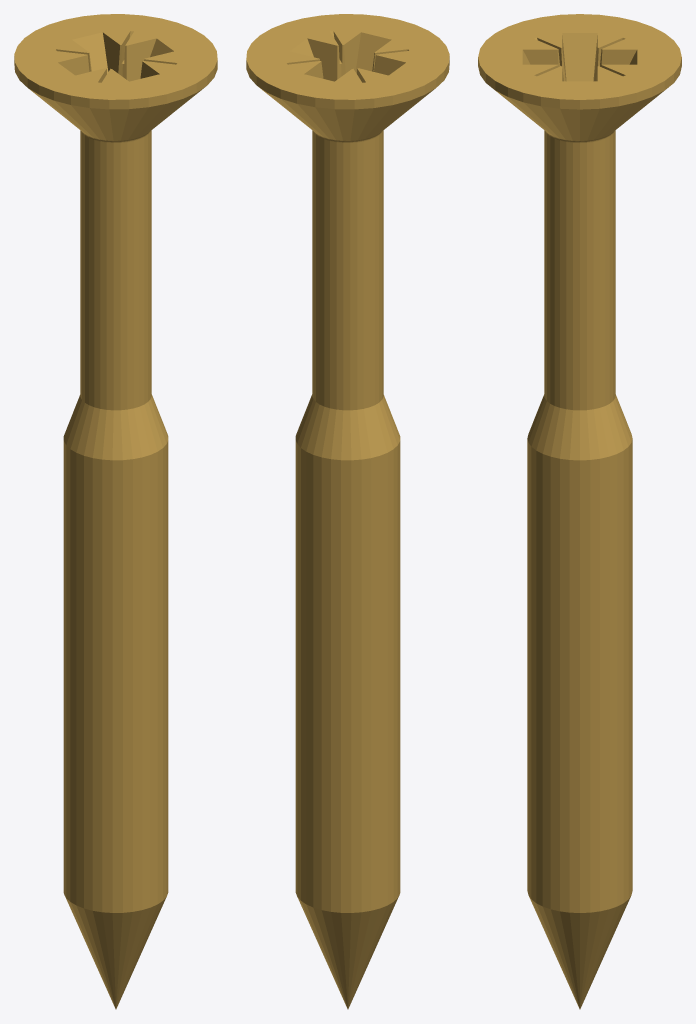
File: model_display.glb
3 renders of one model, left to right at view 1: azimuth 30°, elevation 25°; view 2: azimuth 150°, elevation 25°; view 3: azimuth 270°, elevation 25°, orthographic.
Visible parts, largest first — view 1: geometry_0; view 2: geometry_0; view 3: geometry_0.
Boxes of the visible parts, box(x1,y1,x2,y2) form: geometry_0: box(14, 14, 217, 1009); geometry_0: box(246, 14, 449, 1009); geometry_0: box(478, 14, 681, 1009).
Bounding box in the file's own units: 0.00775 × 0.04 × 0.00775.
